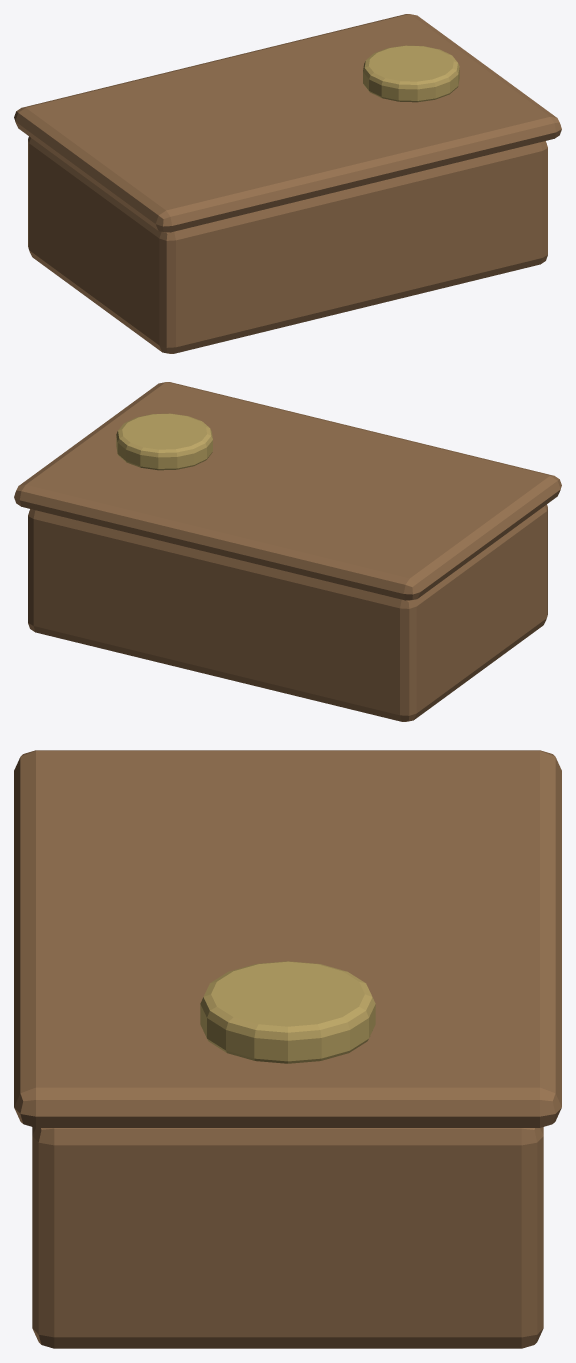
File: seed_case.glb
3 renders of one model, top to bottom at view 1: azimuth 30°, elevation 25°; view 2: azimuth 150°, elevation 25°; view 3: azimuth 270°, elevation 25°, orthographic. The views are drawn at different scales.
Visible parts, largest first — view 1: Seed case, Sliding lid, Finger notch; view 2: Seed case, Sliding lid, Finger notch; view 3: Sliding lid, Seed case, Finger notch.
Boxes of the visible parts, box(x1,y1,x2,y2) form: Seed case: box(28, 136, 547, 353); Sliding lid: box(14, 14, 561, 232); Finger notch: box(363, 45, 459, 102); Seed case: box(28, 504, 547, 721); Sliding lid: box(14, 382, 561, 600); Finger notch: box(116, 413, 212, 470); Sliding lid: box(14, 750, 561, 1127); Seed case: box(32, 1127, 543, 1348); Finger notch: box(200, 961, 375, 1063).
Bounding box in the file's own units: 0.115 × 0.0455 × 0.075.
